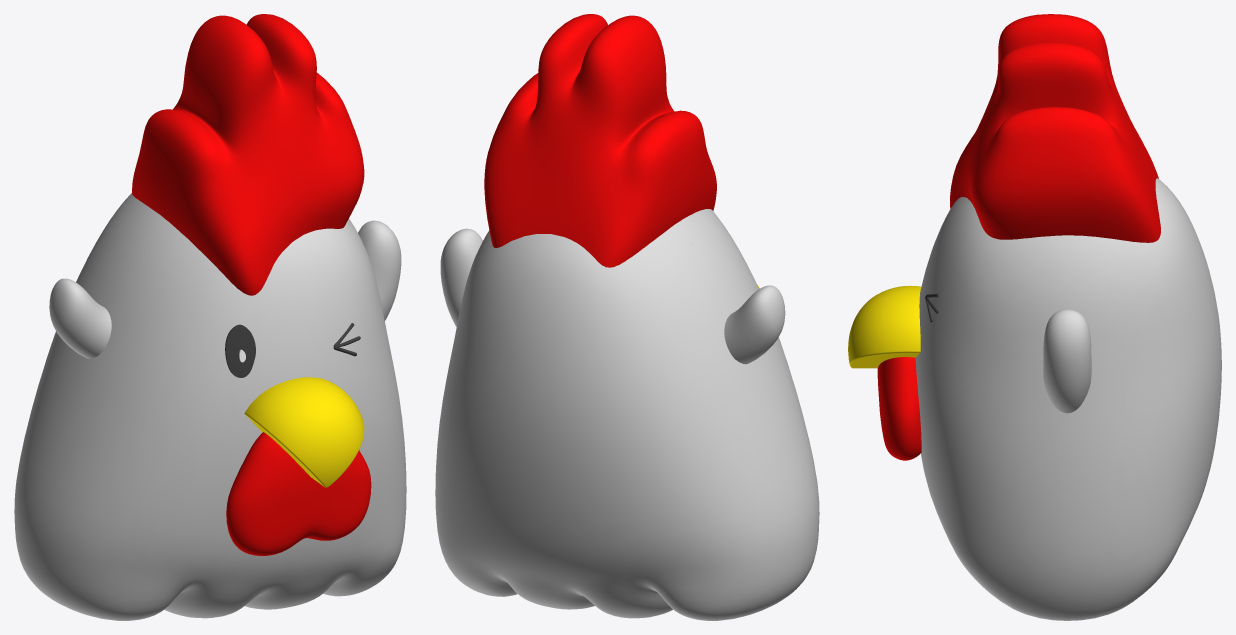
3 views of the same model, side by side, from view 1: azimuth 30°, elevation 25°; view 2: azimuth 150°, elevation 25°; view 3: azimuth 270°, elevation 25° (orthographic). The views are drawn at different scales.
Visible parts, largest first — view 1: 021_karaagekun; view 2: 021_karaagekun; view 3: 021_karaagekun.
Boxes of the visible parts, x1,y1,x2,y2 form: 021_karaagekun: [14, 14, 406, 620]; 021_karaagekun: [435, 14, 819, 620]; 021_karaagekun: [848, 14, 1221, 620].
Size of the model in its own units: 0.097 by 0.1488 by 0.0914.
